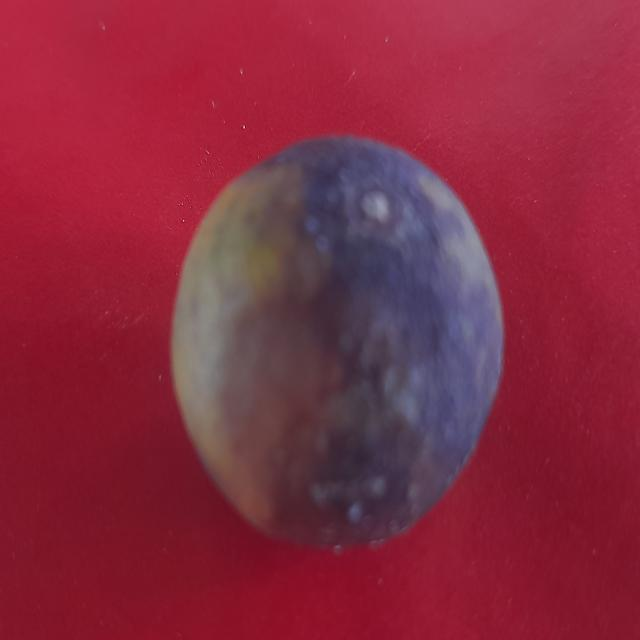black spot: (197, 154, 486, 532)
